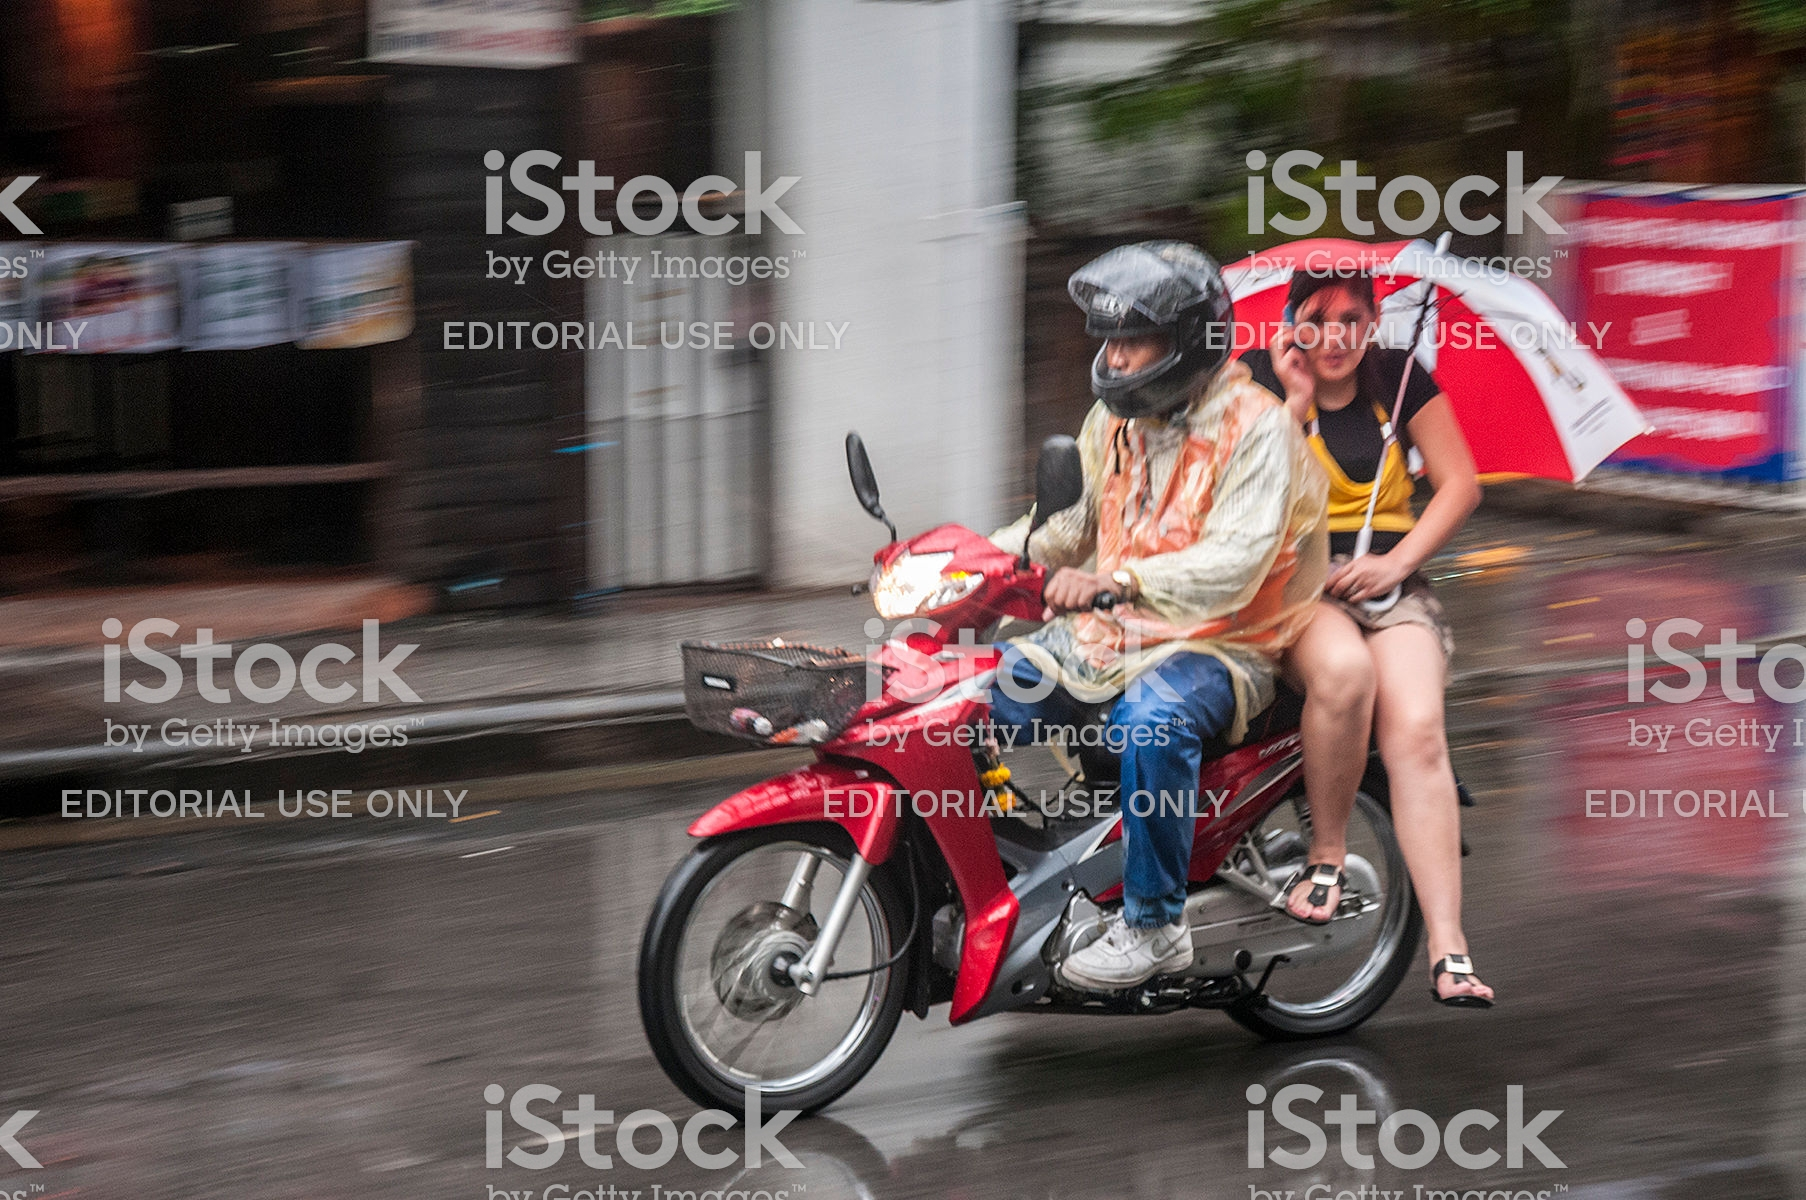helmet: (1072, 238, 1241, 425)
